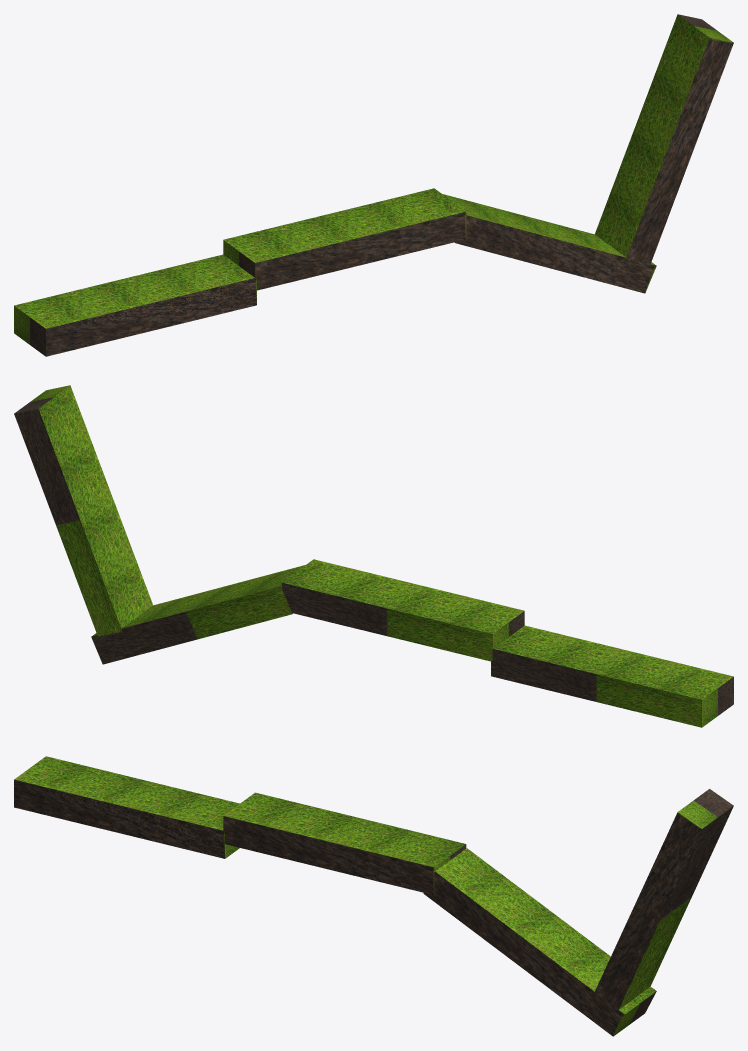
The model's file is level.obj.
3 views of the same model, one above another, from view 1: azimuth 30°, elevation 25°; view 2: azimuth 150°, elevation 25°; view 3: azimuth 330°, elevation 25° (orthographic).
Visible parts, largest first — view 1: Cube.000_Cube.004, Cube.003, Cube.001, Cube.002; view 2: Cube.000_Cube.004, Cube.003, Cube.001, Cube.002; view 3: Cube.002, Cube.001, Cube.003, Cube.000_Cube.004.
Boxes of the visible parts, <box> form: Cube.000_Cube.004: <box>595,14,733,263</box>; Cube.003: <box>14,254,256,356</box>; Cube.001: <box>223,188,466,290</box>; Cube.002: <box>442,194,656,293</box>; Cube.000_Cube.004: <box>14,385,152,636</box>; Cube.003: <box>491,625,733,727</box>; Cube.001: <box>281,559,524,661</box>; Cube.002: <box>91,565,305,664</box>; Cube.002: <box>423,848,656,1036</box>; Cube.001: <box>223,792,466,894</box>; Cube.003: <box>14,756,239,858</box>; Cube.000_Cube.004: <box>595,789,733,1009</box>.
Size of the model in its own units: 58.47 by 19.52 by 4.71.
Materials: 1 (1 with a texture image).
